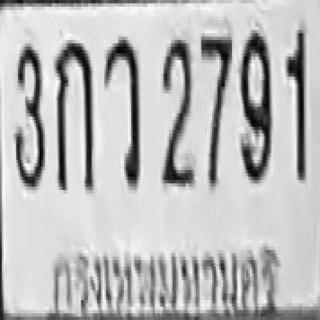A01: (54, 38, 94, 192)
A37: (102, 35, 140, 188)
N01: (284, 25, 306, 178)
N02: (160, 37, 194, 187)
N03: (13, 42, 45, 188)
N07: (200, 33, 232, 190)
N09: (239, 28, 271, 182)
P04: (49, 241, 277, 320)
